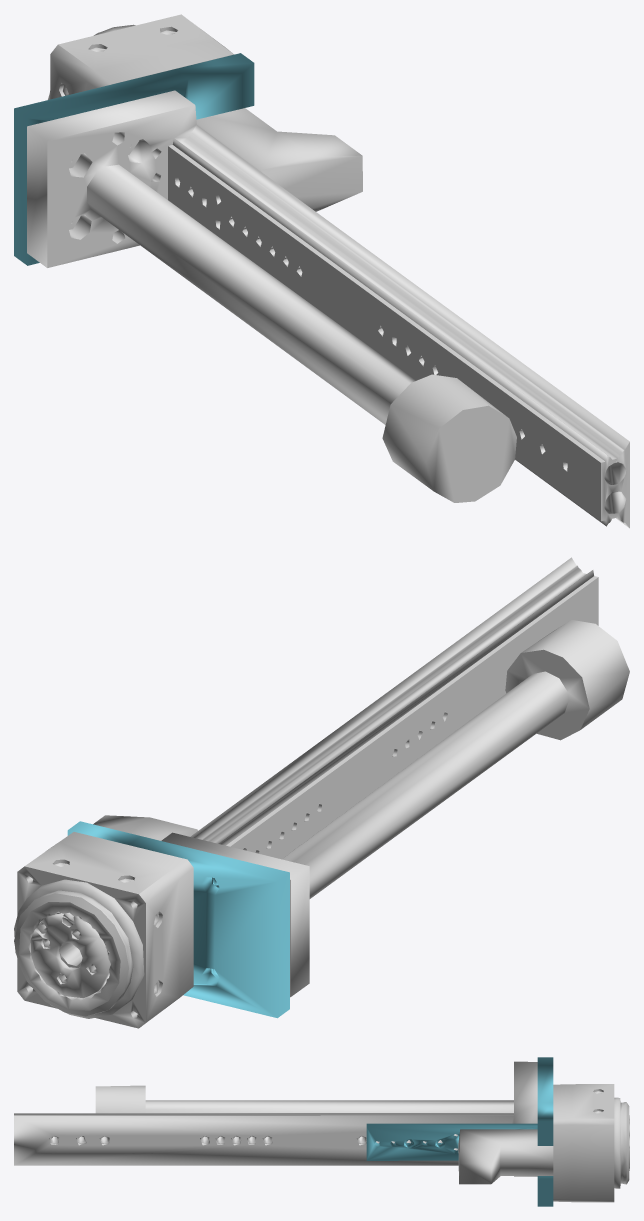
The model's file is Axis3.glb.
The picture shows the model from 3 angles, top to bottom: view 1: azimuth 30°, elevation 25°; view 2: azimuth 150°, elevation 25°; view 3: azimuth 270°, elevation 25°; orthographic projection. The views are drawn at different scales.
Visible parts, largest first — view 1: Axis3; view 2: Axis3; view 3: Axis3.
Part boxes in pixels (x1=…): Axis3: x1=14, y1=14, x2=629, y2=528; Axis3: x1=14, y1=557, x2=629, y2=1028; Axis3: x1=14, y1=1057, x2=629, y2=1206.
Bounding box in the file's own units: 0.1141 × 0.0606 × 0.393.
